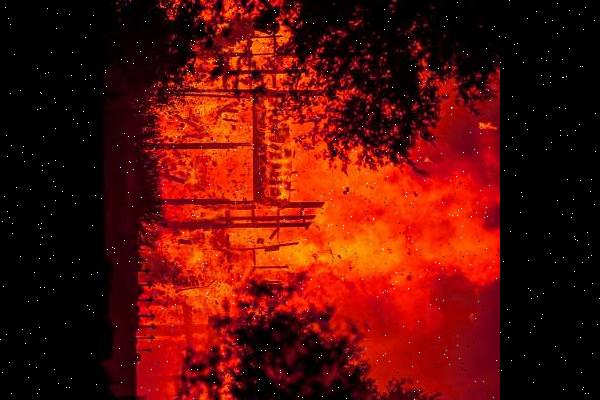fire: (117, 236, 244, 400)
